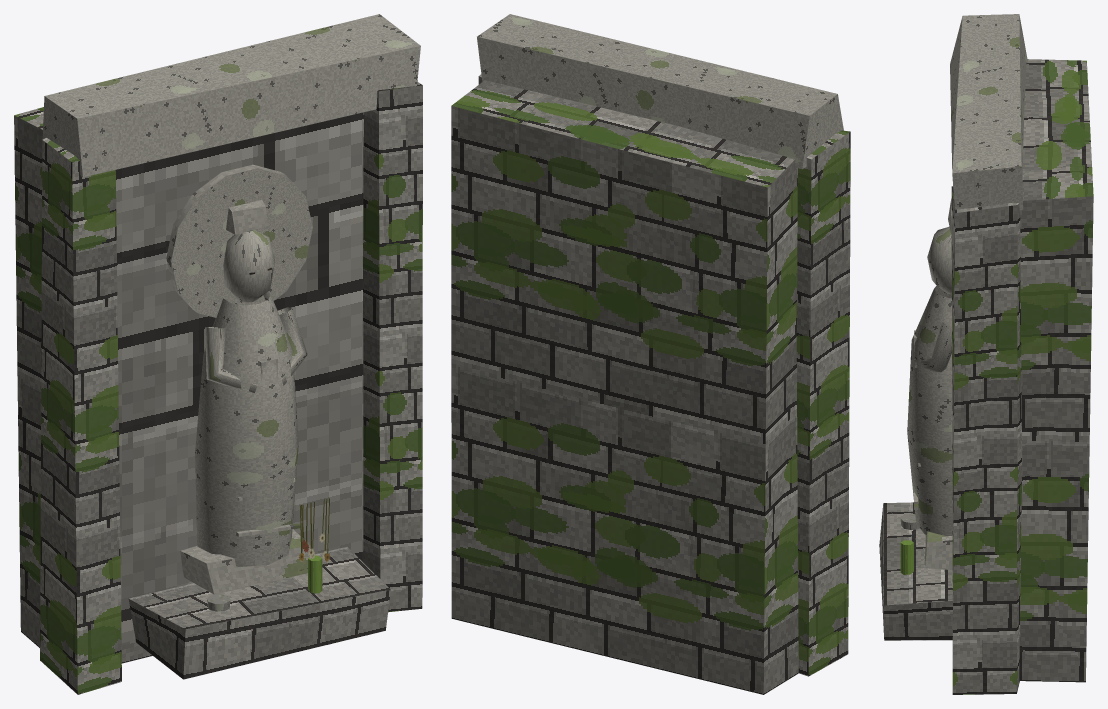
The model's file is prop_carving.glb.
The picture shows the model from 3 angles, left to right: view 1: azimuth 30°, elevation 25°; view 2: azimuth 150°, elevation 25°; view 3: azimuth 270°, elevation 25°; orthographic projection. The views are drawn at different scales.
Parts seen in each view (by area): view 1: prop_carving; view 2: prop_carving; view 3: prop_carving.
Part boxes in pixels (x1,y1,x2,y2): prop_carving: (14,14,422,694); prop_carving: (451,14,850,694); prop_carving: (879,14,1093,694).
Bounding box in the file's own units: 1.69 × 2.62 × 0.9616.
7 materials, 7 textured.
